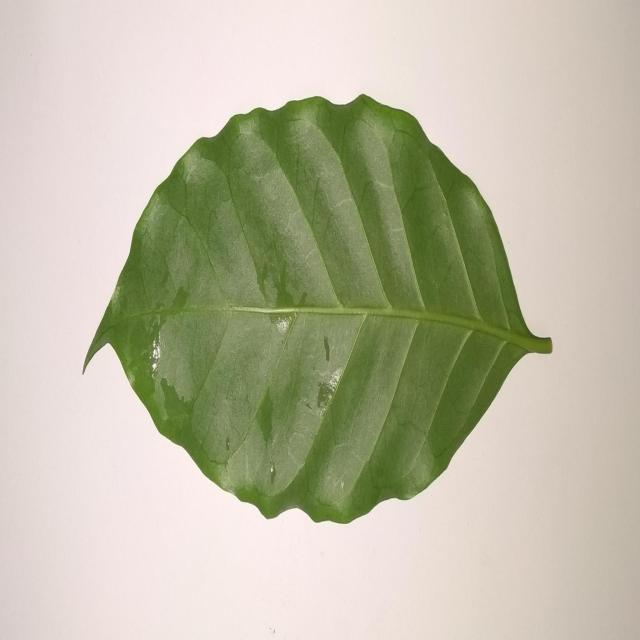Sanas: (80, 95, 554, 526)
